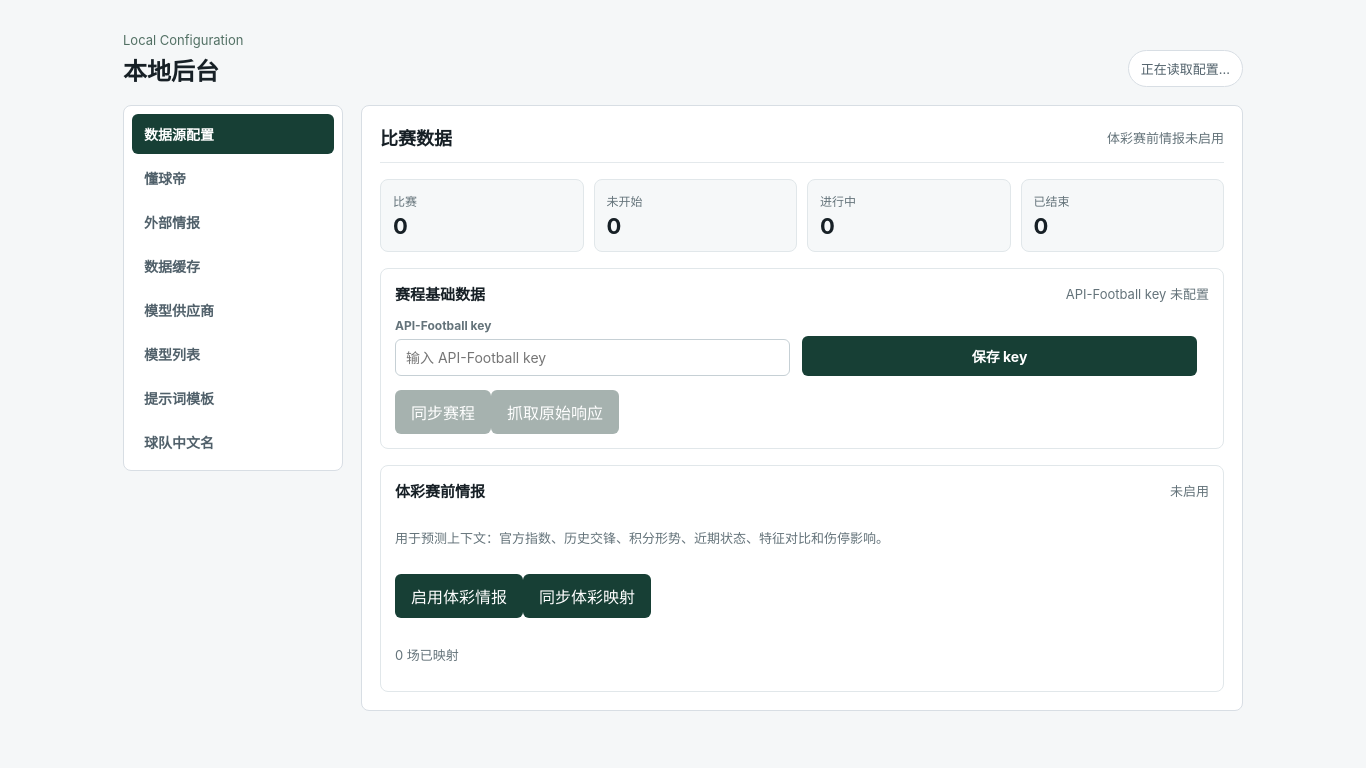
Test: AdminPage › shows model delete failures instead of failing silently
Click the button "模型列表". click: [233, 354]
box: [132,334,334,374]
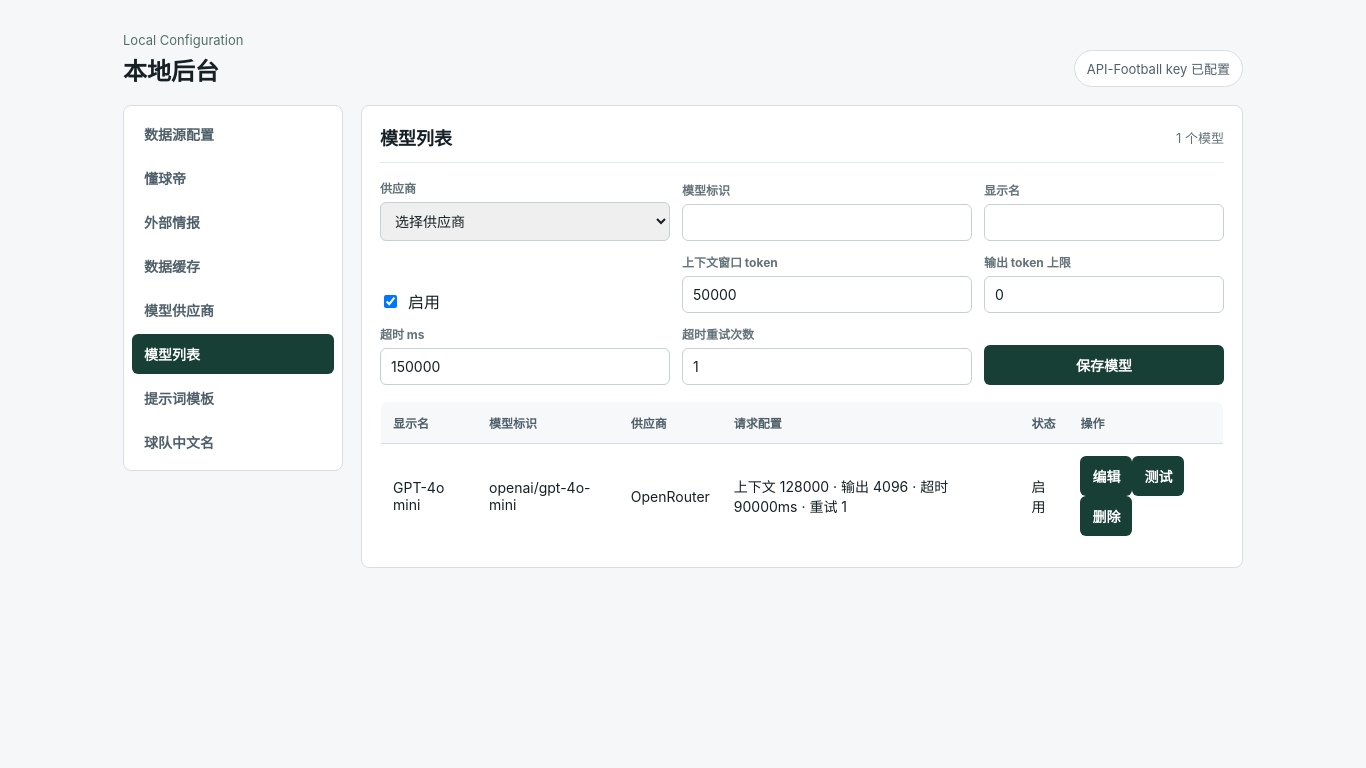
Click the button with aria-label "删除 GPT-4o mini". click: [1106, 516]
box: [1080,496,1132,536]
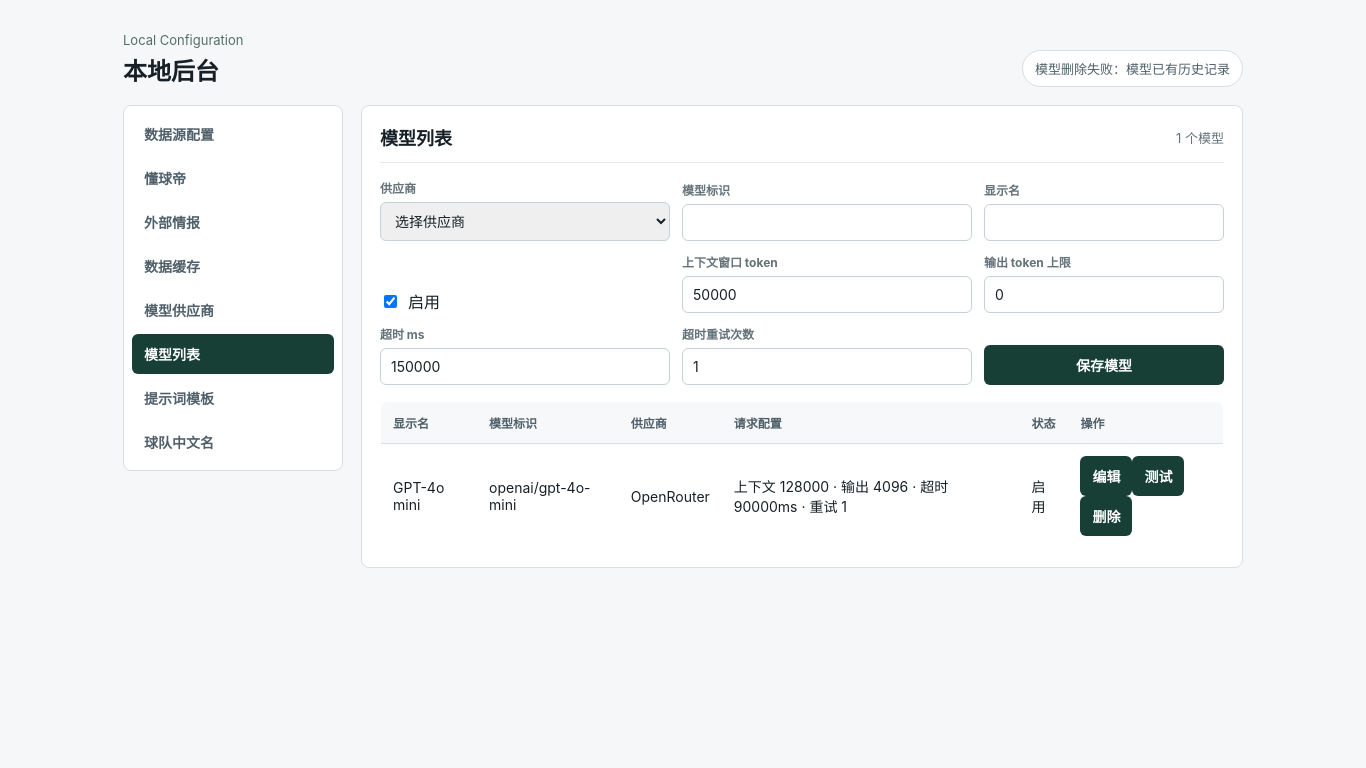
Expected: the text "模型删除失败：模型已有历史记录" is shown, [1022,50,1243,87]
